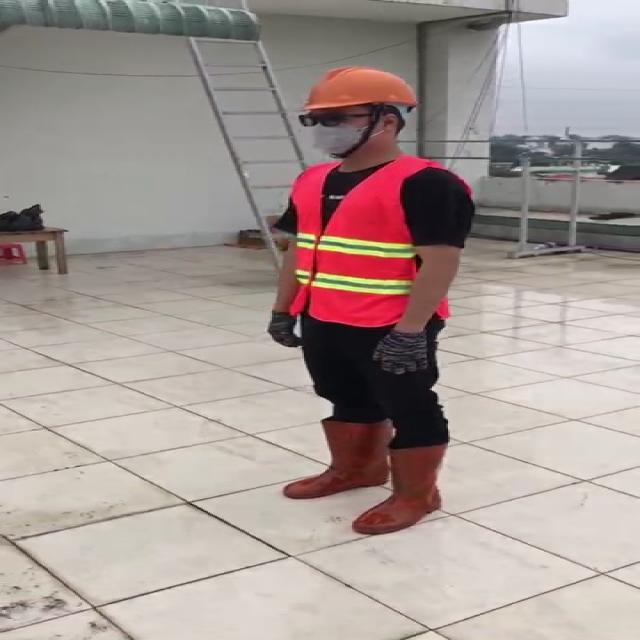boots: (283, 418, 392, 502), (354, 444, 448, 536)
gloves: (372, 333, 434, 372), (265, 310, 306, 351)
helmet: (296, 63, 428, 114)
vest: (286, 158, 457, 328)
